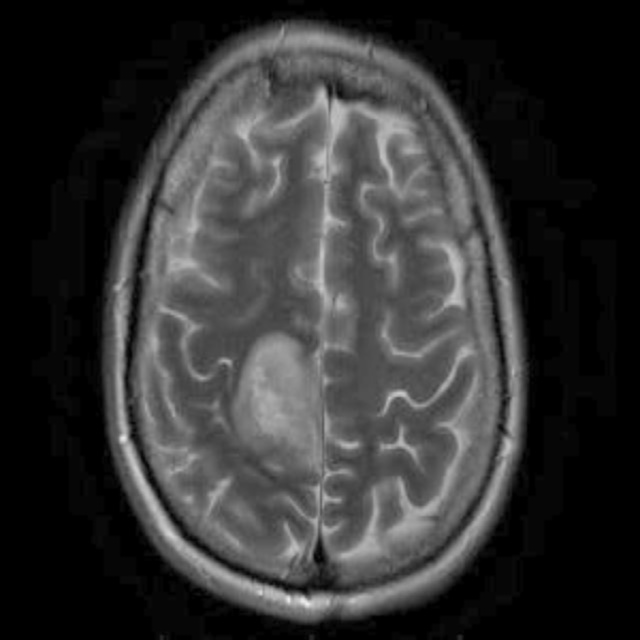meningioma tumor: (228, 315, 326, 496)
